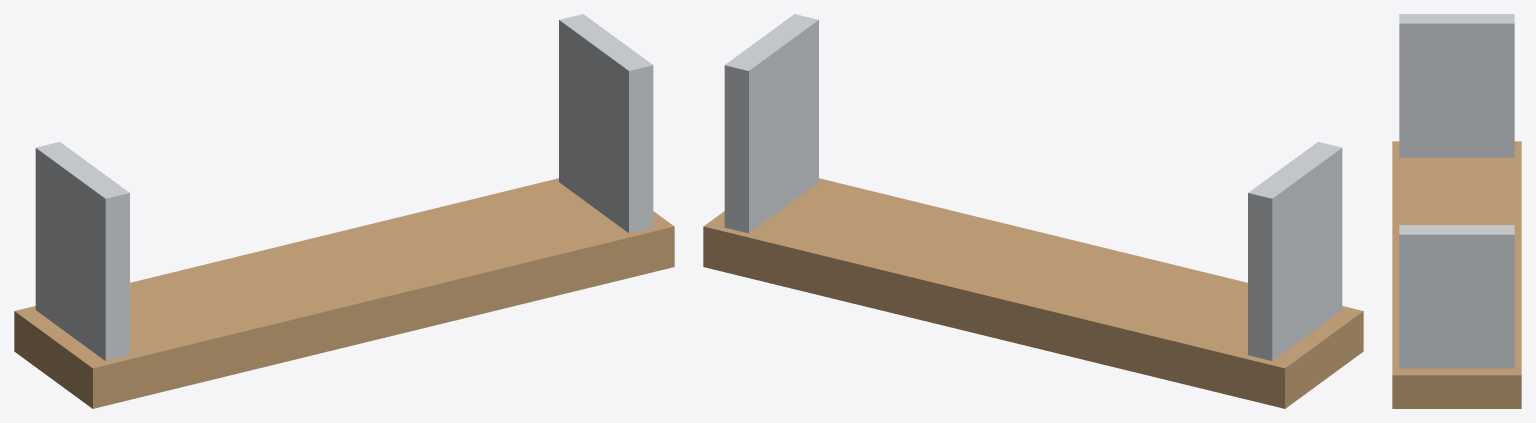
Rendered from open-shelf-premium.gltf.
The picture shows the model from 3 angles, left to right: view 1: azimuth 30°, elevation 25°; view 2: azimuth 150°, elevation 25°; view 3: azimuth 270°, elevation 25°; orthographic projection. The views are drawn at different scales.
Parts seen in each view (by area): view 1: open-shelf-premium; view 2: open-shelf-premium; view 3: open-shelf-premium.
Part boxes in pixels (x1,y1,x2,y2): open-shelf-premium: [14, 14, 674, 408]; open-shelf-premium: [703, 14, 1363, 408]; open-shelf-premium: [1392, 14, 1521, 408].
Size of the model in its own units: 1.2 by 0.4 by 0.28.
